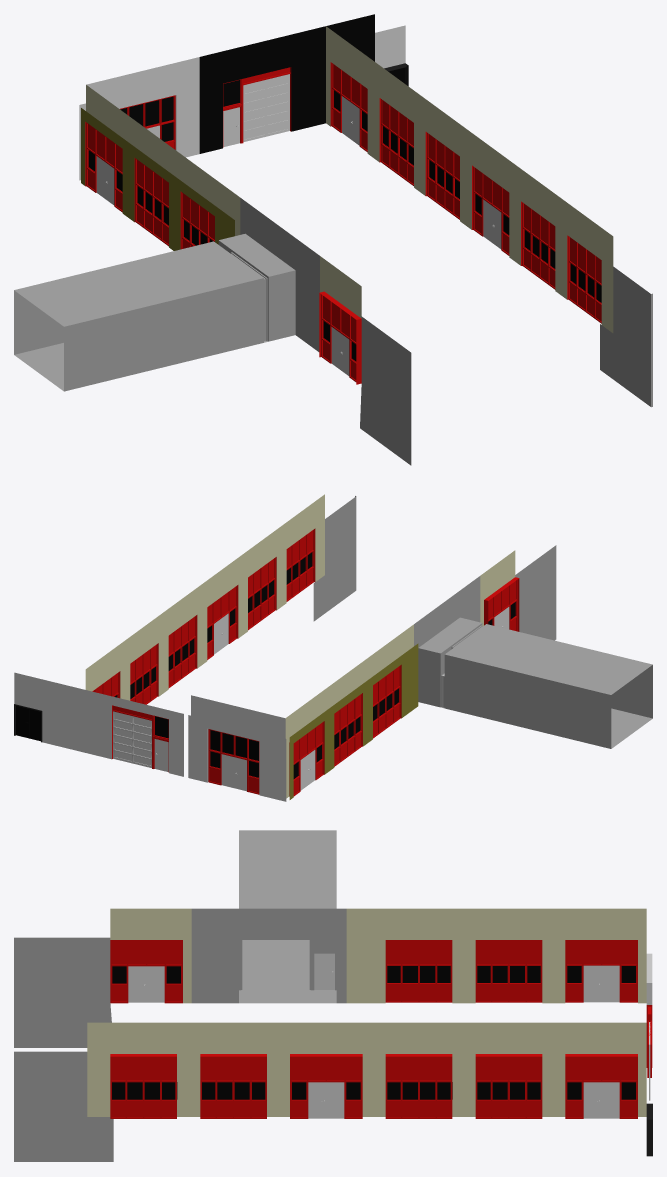
Rendered from LabOutsideWalls.fbx.
3 renders of one model, top to bottom at view 1: azimuth 30°, elevation 25°; view 2: azimuth 150°, elevation 25°; view 3: azimuth 270°, elevation 25°, orthographic. The views are drawn at different scales.
Visible parts, largest first — view 1: TunnelWalls, ClubSection_FrontWall (×3), Front (×2), ClubSectionWindowRight (×3), polySurface1, ClubSectionWindowLeft (×3), ClubSectionDoorway (×3), LabWall_Beginning_01, Haas_FrontGarageDoor, ClubSection_FrontWall5, ClubSectionDoorway1, SandingRoom_FrontDoorway (+3 smaller); view 2: TunnelWalls, ClubSection_FrontWall (×3), Back (×2), ClubSectionWindowLeft (×3), ClubSectionWindowRight (×3), LabWall_Beginning_01, polySurface1, ClubSectionDoorway (×2), SandingRoom_FrontDoorway, Front, Haas_FrontGarageDoor, ClubSection_FrontWall5 (+4 smaller); view 3: ClubSection_FrontWall (×3), TunnelWalls, ClubSectionWindowLeft (×3), ClubSectionWindowRight (×3), polySurface1, ClubSectionDoorway (×3), LabWall_Beginning_01, TunnelFloor, ClubSectionDoorway1, ClubSection_FrontWall5, ClubSection_FrontDoor_Right (×4), ClubSection_FrontDoor_Left (×4) (+2 smaller).
Boxes of the visible parts, bbox=[...] form: TunnelWalls: bbox=[14, 198, 319, 391]; ClubSection_FrontWall (×3): bbox=[81, 26, 613, 332]; Front (×2): bbox=[86, 14, 374, 157]; ClubSectionWindowRight (×3): bbox=[135, 99, 555, 289]; polySurface1: bbox=[360, 316, 411, 465]; ClubSectionWindowLeft (×3): bbox=[181, 132, 601, 323]; ClubSectionDoorway (×3): bbox=[86, 63, 509, 255]; LabWall_Beginning_01: bbox=[600, 266, 652, 407]; Haas_FrontGarageDoor: bbox=[243, 74, 289, 142]; ClubSection_FrontWall5: bbox=[319, 256, 361, 384]; ClubSectionDoorway1: bbox=[321, 294, 356, 381]; SandingRoom_FrontDoorway: bbox=[120, 95, 175, 149]; TunnelWalls: bbox=[414, 576, 652, 748]; ClubSection_FrontWall (×3): bbox=[85, 494, 418, 799]; Back (×2): bbox=[14, 672, 286, 801]; ClubSectionWindowLeft (×3): bbox=[168, 529, 400, 738]; ClubSectionWindowRight (×3): bbox=[130, 557, 362, 766]; LabWall_Beginning_01: bbox=[313, 496, 356, 621]; polySurface1: bbox=[515, 545, 556, 640]; ClubSectionDoorway (×2): bbox=[207, 585, 323, 796]; SandingRoom_FrontDoorway: bbox=[208, 729, 259, 794]; Front: bbox=[191, 695, 285, 738]; Haas_FrontGarageDoor: bbox=[113, 711, 151, 767]; ClubSection_FrontWall5: bbox=[480, 550, 519, 631]; ClubSection_FrontWall (×3): bbox=[87, 908, 646, 1116]; TunnelWalls: bbox=[191, 830, 346, 1003]; ClubSectionWindowLeft (×3): bbox=[110, 940, 452, 1118]; ClubSectionWindowRight (×3): bbox=[200, 940, 542, 1118]; polySurface1: bbox=[14, 937, 111, 1047]; ClubSectionDoorway (×3): bbox=[290, 940, 637, 1118]; LabWall_Beginning_01: bbox=[14, 1051, 113, 1161]; TunnelFloor: bbox=[239, 940, 336, 1003]; ClubSectionDoorway1: bbox=[110, 940, 182, 1003]; ClubSection_FrontWall5: bbox=[110, 908, 191, 1003]; ClubSection_FrontDoor_Right (×4): bbox=[146, 965, 619, 1118]; ClubSection_FrontDoor_Left (×4): bbox=[128, 965, 601, 1118].
Size of the model in its own units: 107 by 26.52 by 110.
